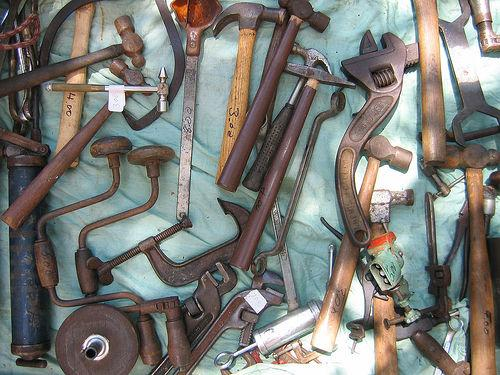hammer: (0, 55, 154, 232), (308, 130, 412, 354), (432, 140, 499, 374), (209, 2, 287, 188), (243, 40, 334, 187), (0, 12, 148, 98), (273, 0, 333, 42)
